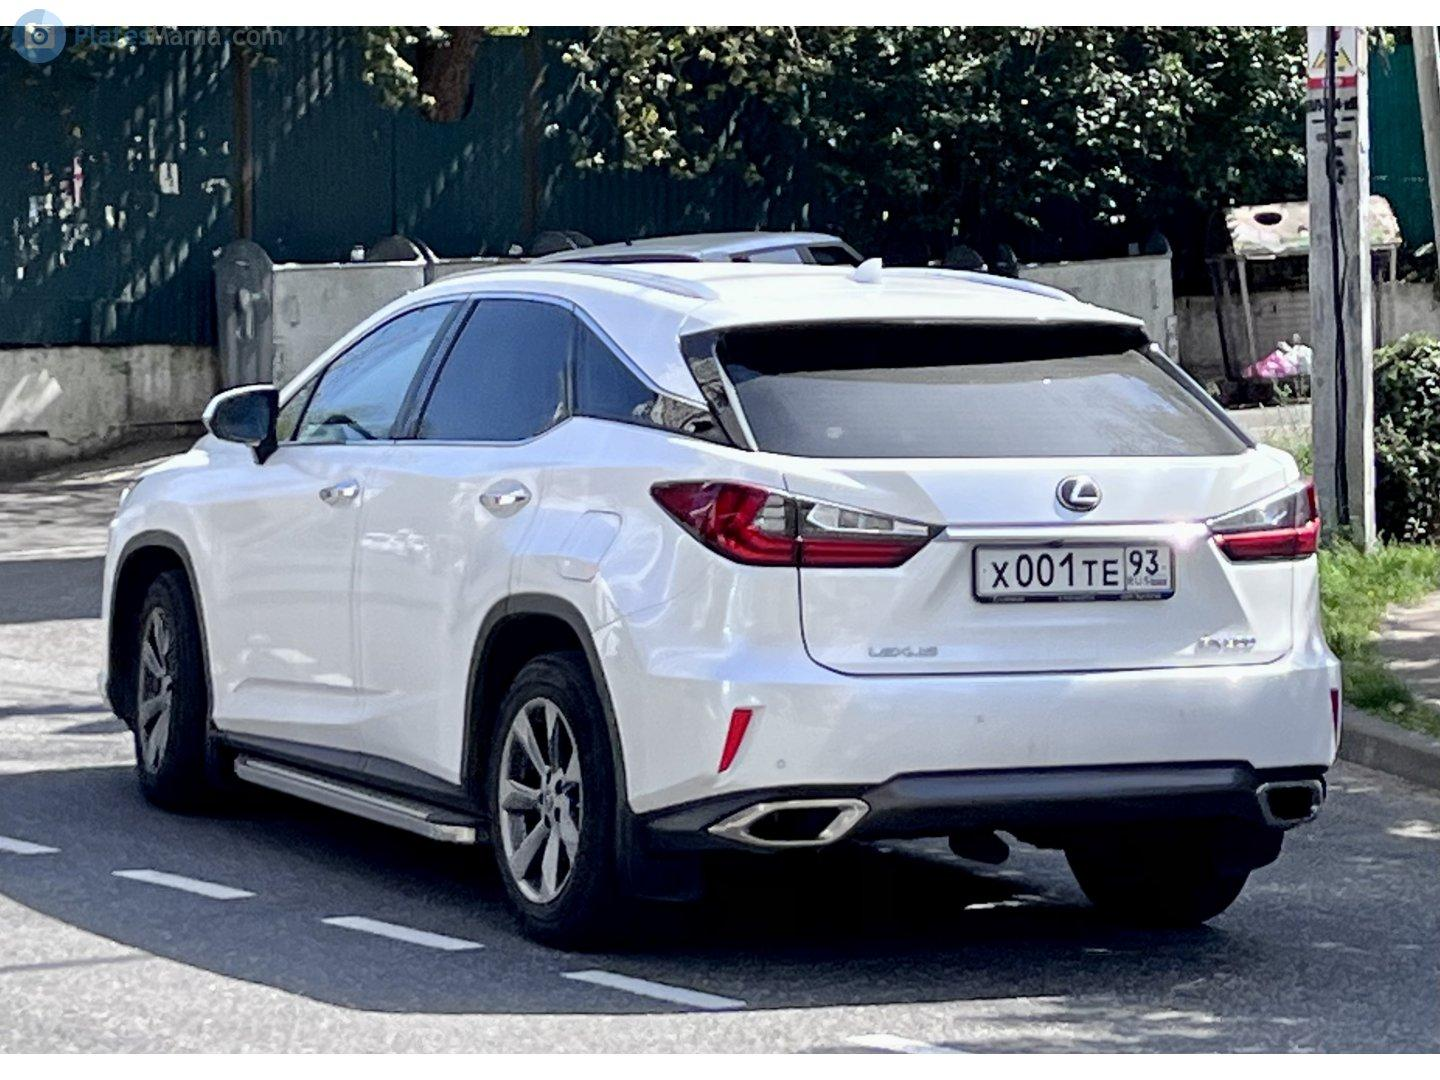license-plateSW: (978, 550, 1174, 594)
